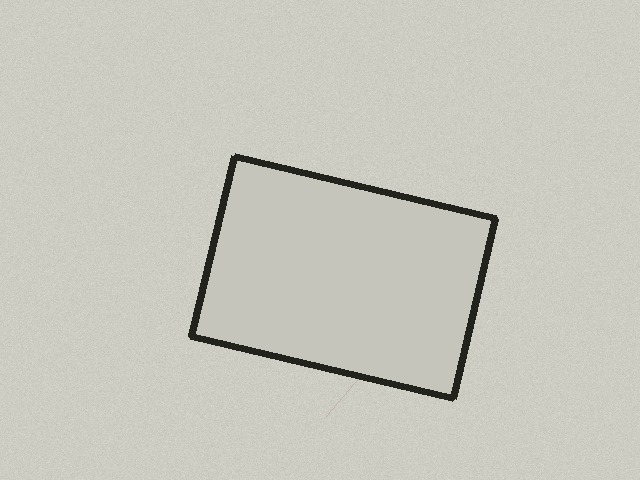parking_area: (191, 156, 495, 398)
